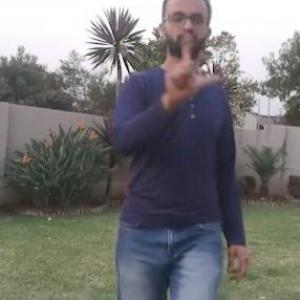land_hand: (160, 28, 218, 100)
